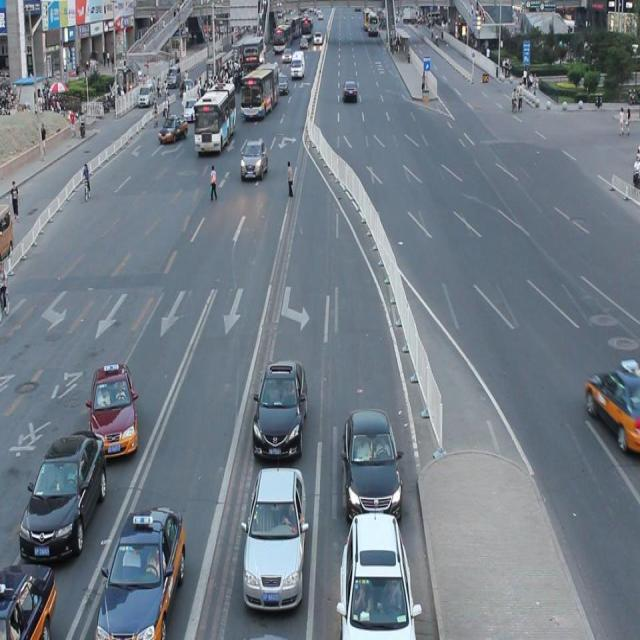BigCar: (196, 83, 238, 158), (238, 61, 280, 125)
car: (96, 501, 184, 640), (20, 430, 101, 555), (338, 513, 416, 640), (238, 470, 308, 610), (335, 406, 403, 514), (582, 341, 640, 461), (248, 356, 309, 458), (0, 554, 64, 640), (83, 368, 138, 450), (242, 140, 264, 185), (161, 117, 188, 147), (166, 59, 185, 90), (341, 75, 360, 103), (289, 51, 307, 79), (137, 82, 156, 106)
